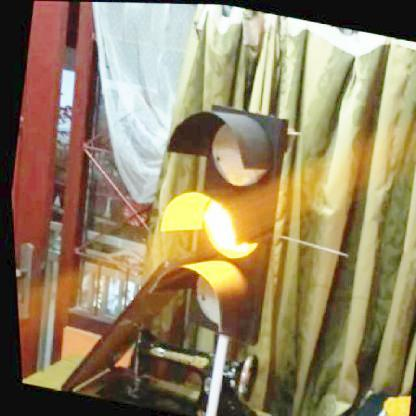Traffic Light -Yellow-: (129, 96, 296, 344)
